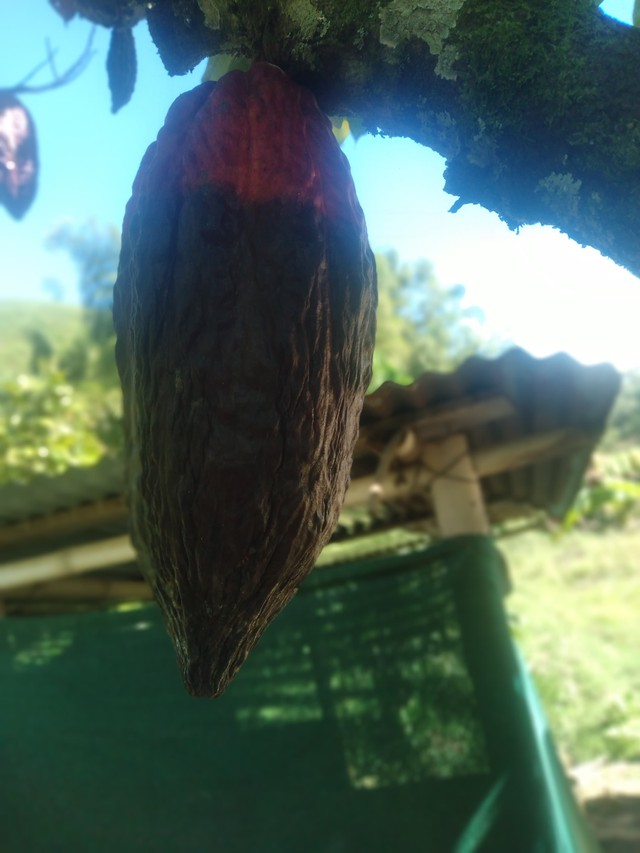phytophthora palmivora: (89, 50, 389, 703)
